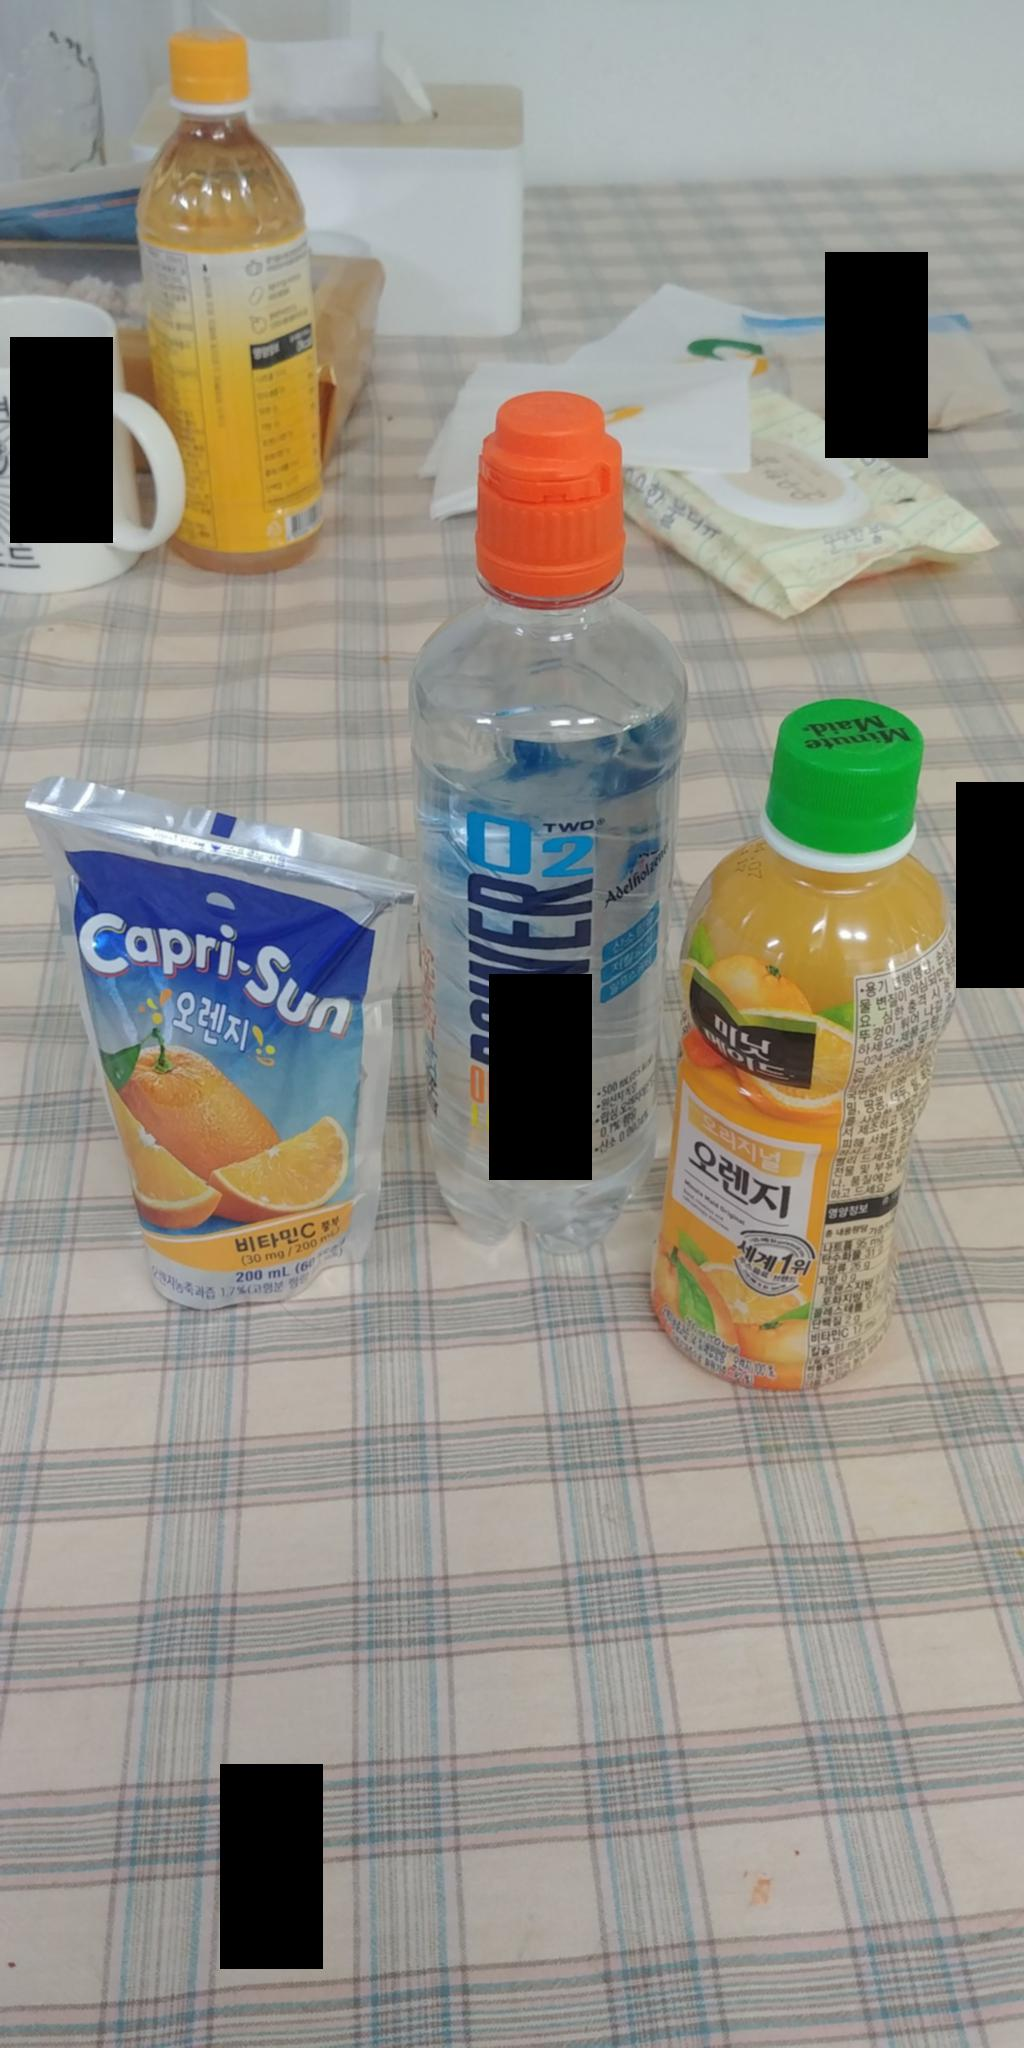cafrisun: (20, 765, 418, 1328)
minutemaid_org_orange: (650, 684, 964, 1390)
powerO2_orange: (414, 384, 690, 1253)
